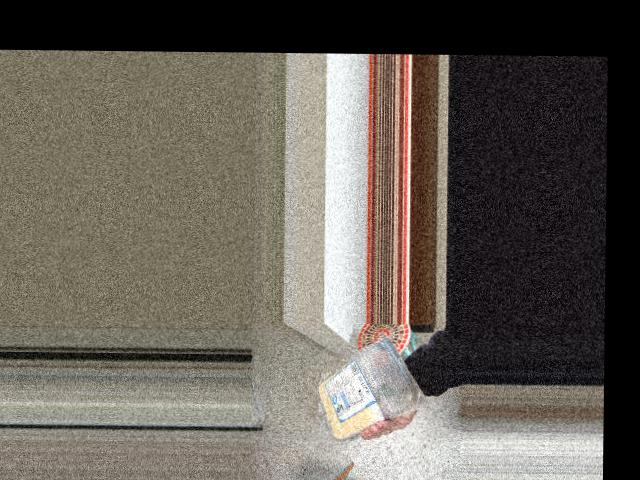cheese: (312, 339, 412, 428)
